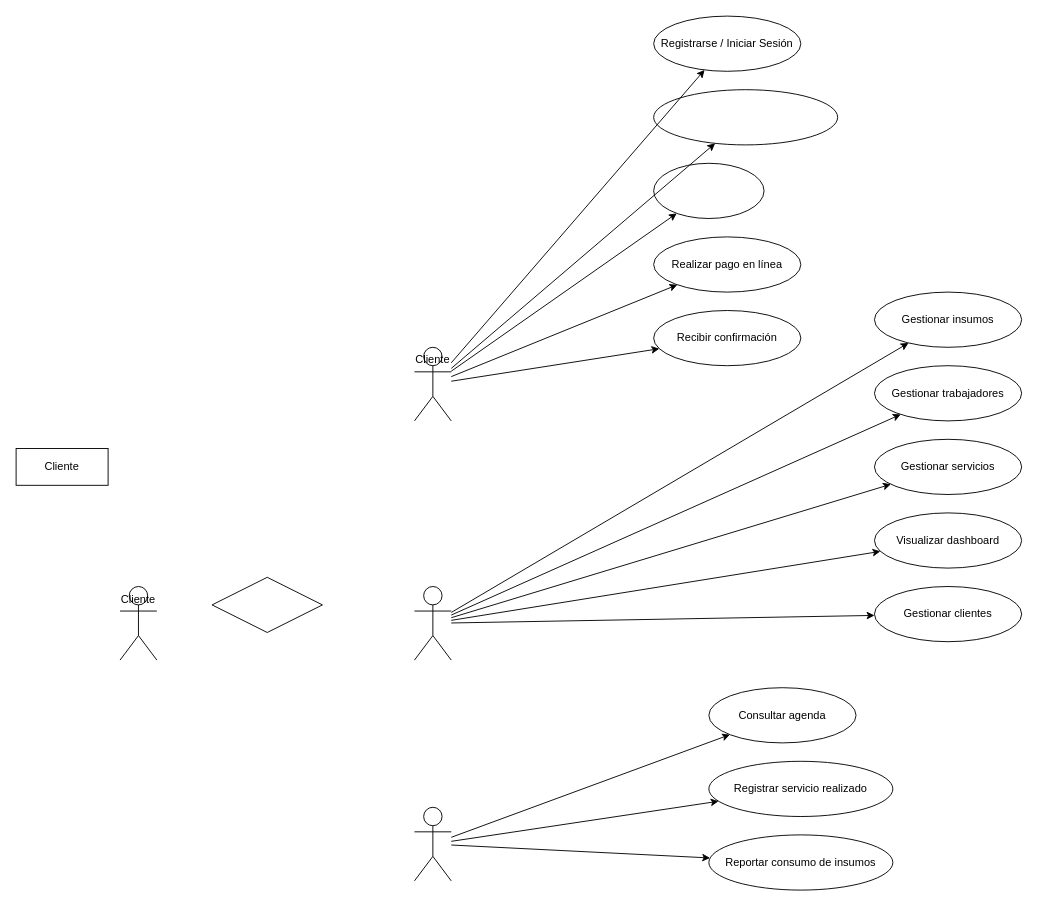
Image size: 1038x906. Some labels were removed from this diagram. Each missing label, with the centre of its shape:
"Administrador" belongs at (432,623).
"Agendar cita" belongs at (708,190).
"es un" belongs at (266,604).
"Solicitar servicio de bronceado" belongs at (745,117).
"Trabajador" belongs at (432,843).
